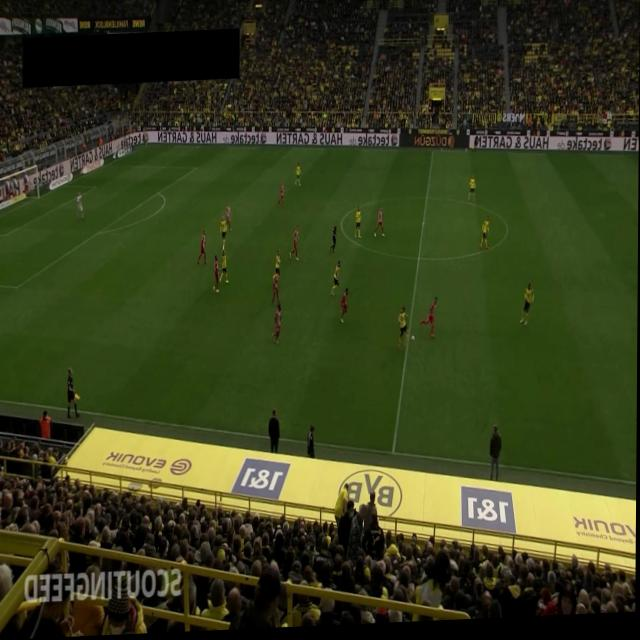goalkeeper: (77, 191, 85, 220)
player: (421, 301, 438, 343), (520, 287, 534, 330), (398, 309, 409, 355), (273, 306, 283, 347), (289, 227, 300, 264), (374, 209, 386, 242), (197, 231, 208, 267), (479, 220, 490, 254), (331, 263, 341, 299), (219, 252, 229, 286), (219, 218, 228, 254), (272, 273, 281, 308), (341, 290, 349, 327), (214, 257, 221, 295), (355, 208, 362, 243), (468, 178, 476, 207), (277, 184, 285, 210), (227, 205, 233, 235), (275, 251, 281, 279), (295, 165, 301, 189)
referee: (68, 367, 82, 420), (330, 226, 339, 256), (472, 138, 478, 158)
